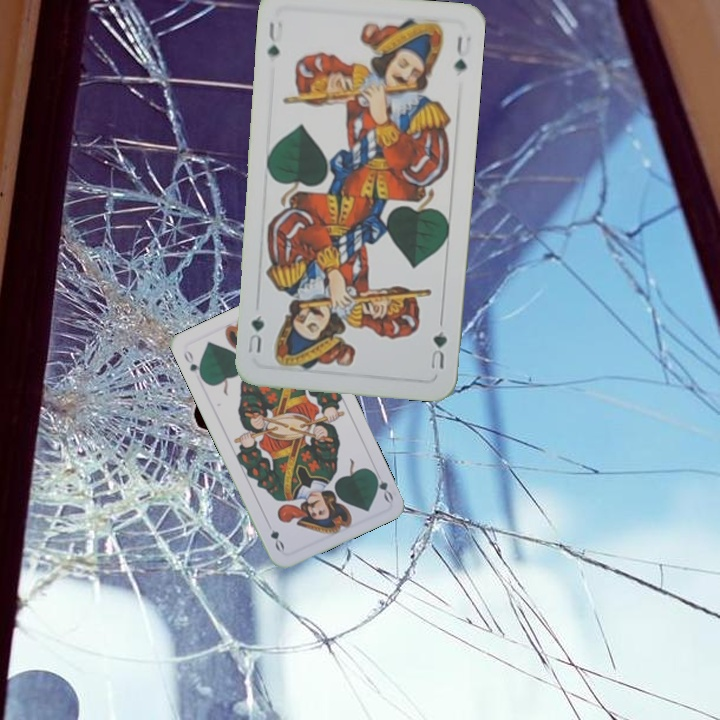GO: (368, 467, 396, 505), (179, 346, 206, 383)
GU: (426, 327, 450, 371), (263, 18, 282, 60)
